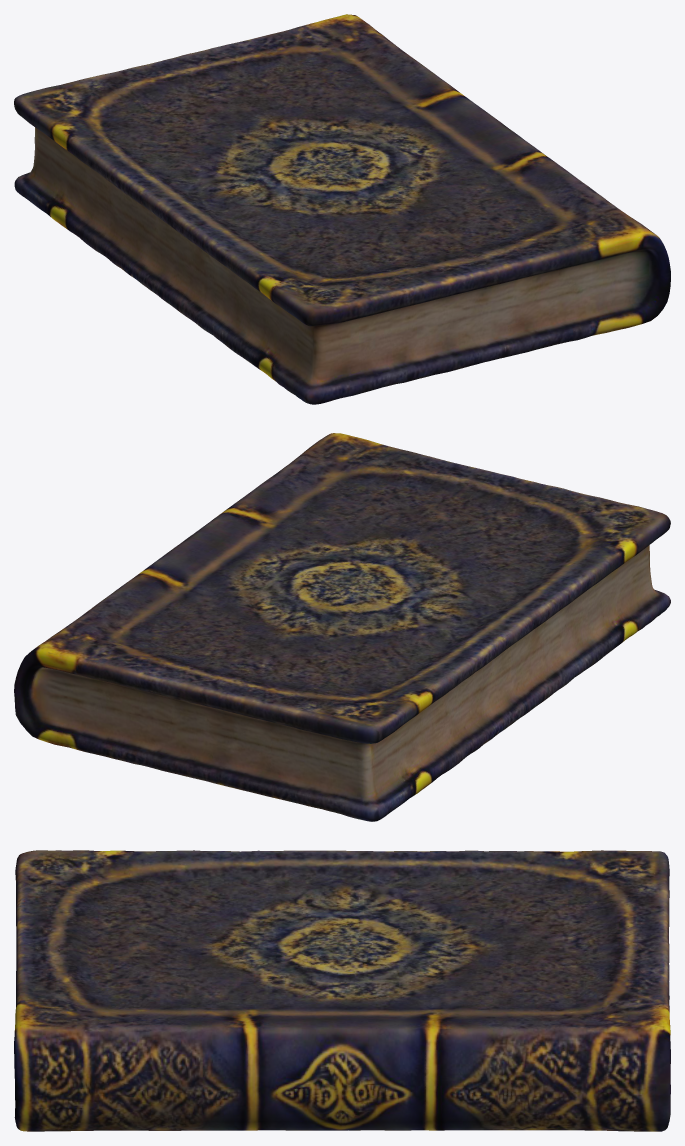
The model's file is Libro.fbx.
3 views of the same model, one above another, from view 1: azimuth 30°, elevation 25°; view 2: azimuth 150°, elevation 25°; view 3: azimuth 270°, elevation 25° (orthographic). The views are drawn at different scales.
Parts seen in each view (by area): view 1: mesh; view 2: mesh; view 3: mesh.
Part boxes in pixels (left/top/right/bottom): mesh: left=14, top=14, right=670, bottom=404; mesh: left=14, top=433, right=670, bottom=821; mesh: left=14, top=850, right=670, bottom=1131.
Bounding box in the file's own units: 69.66 × 17.41 × 99.8.
